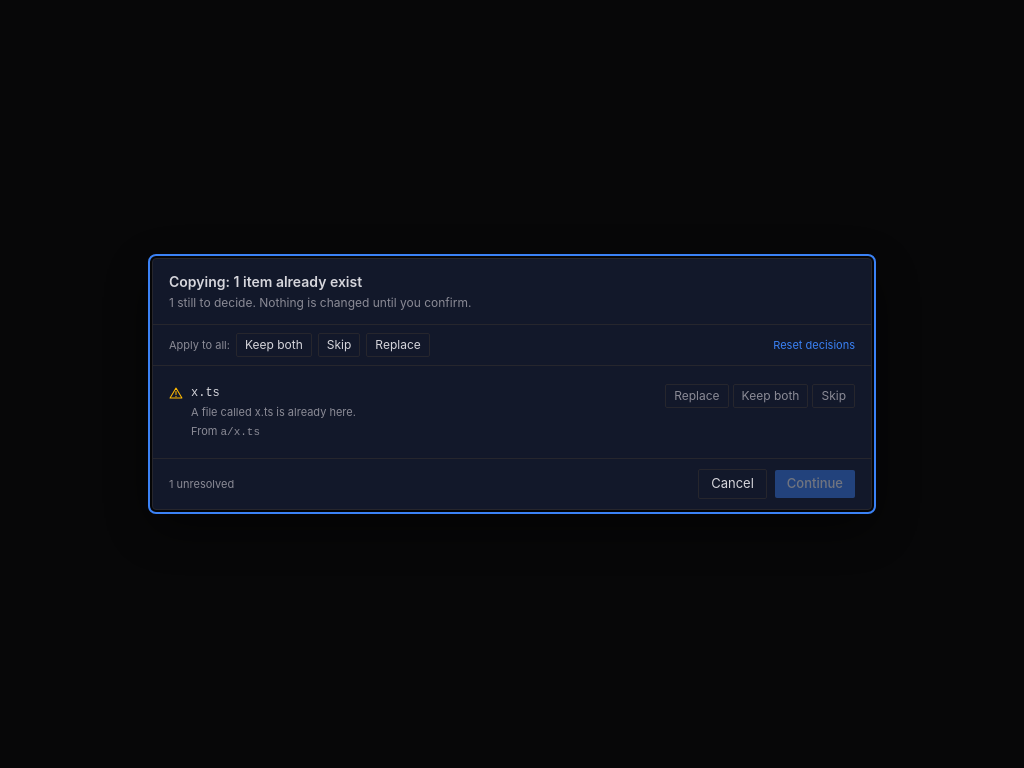
Scenario: the choices offered › shows the resulting path when a rename is chosen
The image size is (1024, 768).
Click the button with aria-label "Keep both x.ts". click: (771, 396)
box: [733,384,808,408]
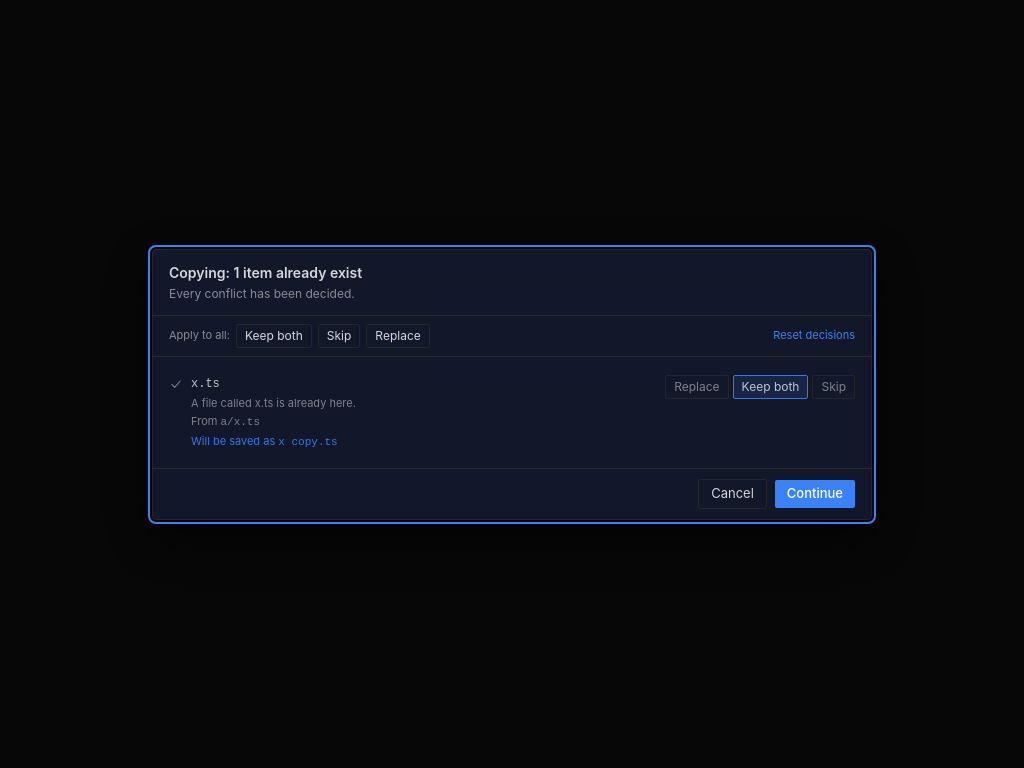
Result: the text "x copy.ts" is shown at [278,436,338,448]
